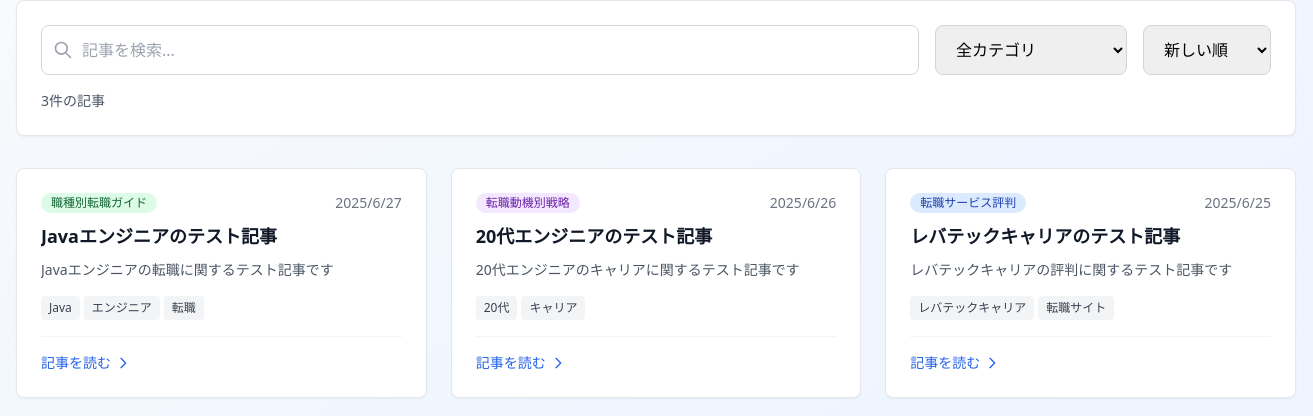
Test case: AllArticlesList › 検索機能が動作する
// 「Java」で検索
Step 1. Type "Java" into the field with placeholder "記事を検索..." → (480, 50), box [41,25,919,75]
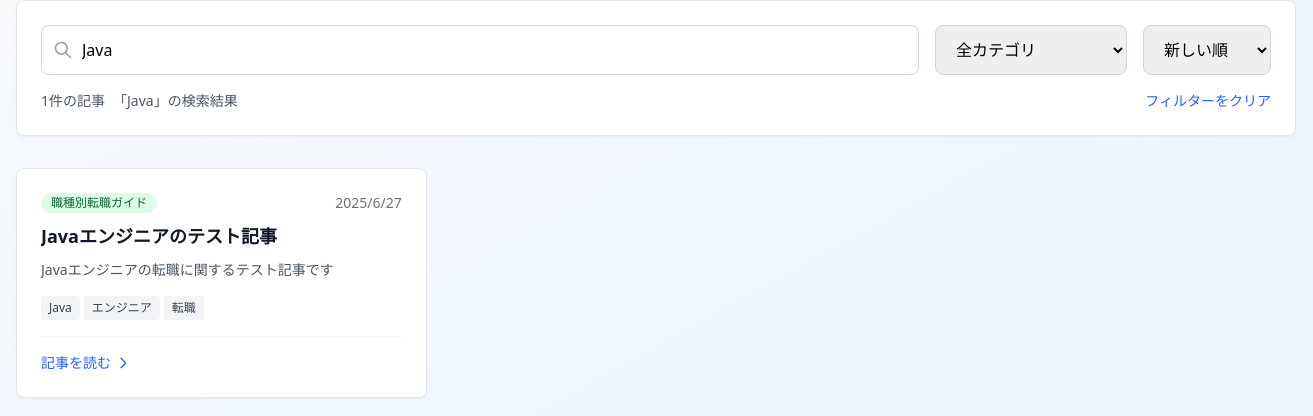
Expected: the link "20代エンジニアのテスト記事" is gone
Expected: the link "レバテックキャリアのテスト記事" is gone
Expected: the text "1件の記事" is shown, [41,91,238,111]
